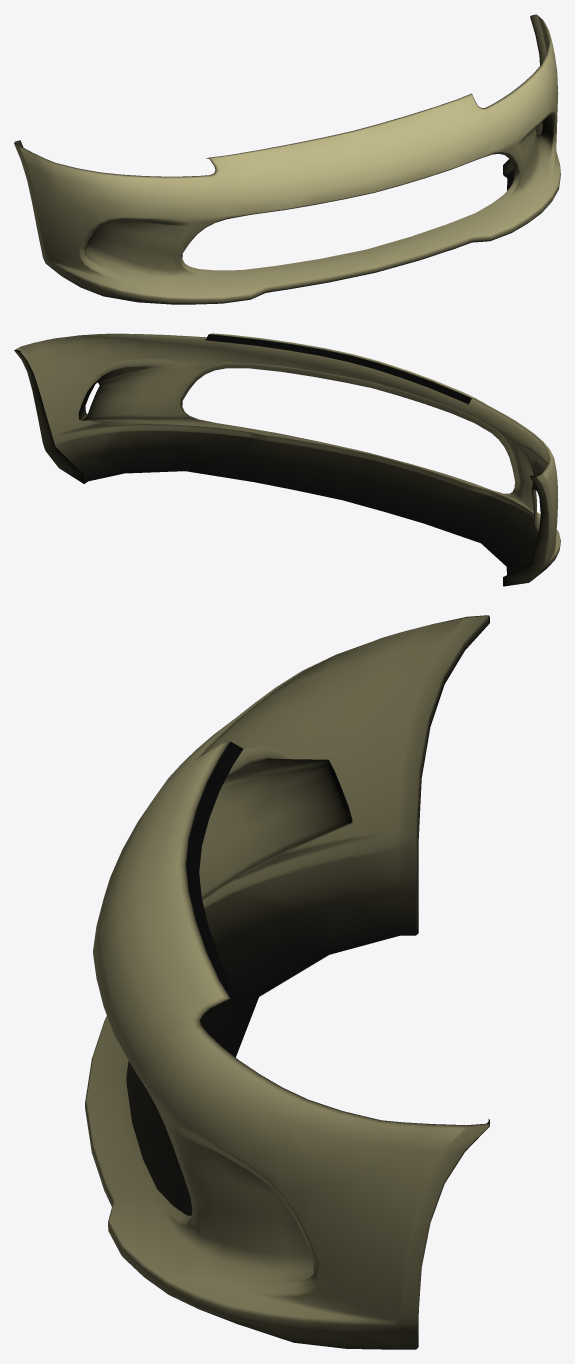
The model's file is Viper_FB_03_Duco.fbx.
The picture shows the model from 3 angles, top to bottom: view 1: azimuth 30°, elevation 25°; view 2: azimuth 150°, elevation 25°; view 3: azimuth 270°, elevation 25°; orthographic projection. The views are drawn at different scales.
Parts seen in each view (by area): view 1: Viper_FB_03_Duco; view 2: Viper_FB_03_Duco; view 3: Viper_FB_03_Duco.
Boxes of the visible parts, x1,y1,x2,y2 form: Viper_FB_03_Duco: (14, 14, 560, 304); Viper_FB_03_Duco: (14, 333, 560, 586); Viper_FB_03_Duco: (85, 615, 489, 1349).
Size of the model in its own units: 183 by 46.09 by 61.23.
